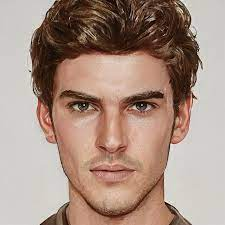s.white: (129, 113, 167, 167)
